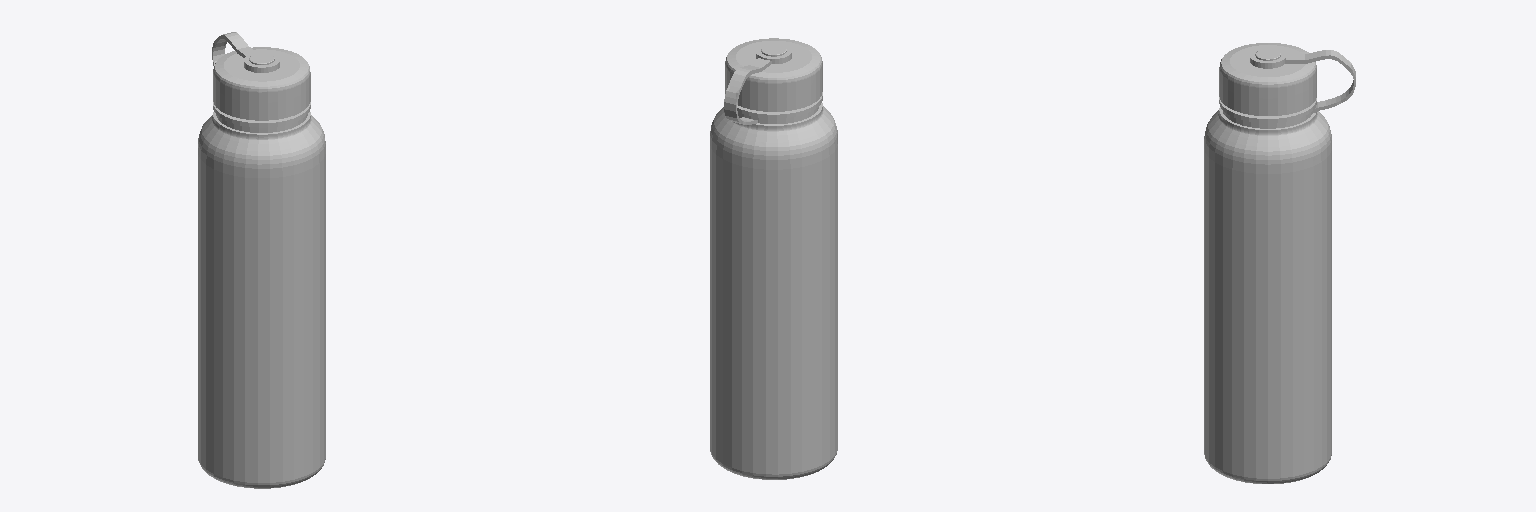
Rendered from MetalBottle.obj.
3 views of the same model, side by side, from view 1: azimuth 30°, elevation 25°; view 2: azimuth 150°, elevation 25°; view 3: azimuth 270°, elevation 25° (orthographic).
Parts seen in each view (by area): view 1: Metal_Bottle_Cylinder; view 2: Metal_Bottle_Cylinder; view 3: Metal_Bottle_Cylinder.
Part boxes in pixels (x1,y1,x2,y2): Metal_Bottle_Cylinder: (198, 32, 325, 488); Metal_Bottle_Cylinder: (710, 38, 837, 479); Metal_Bottle_Cylinder: (1204, 43, 1355, 483).
Size of the model in its own units: 4.92 by 17.21 by 5.83.